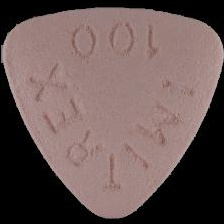54868-5118: (0, 0, 224, 224)
